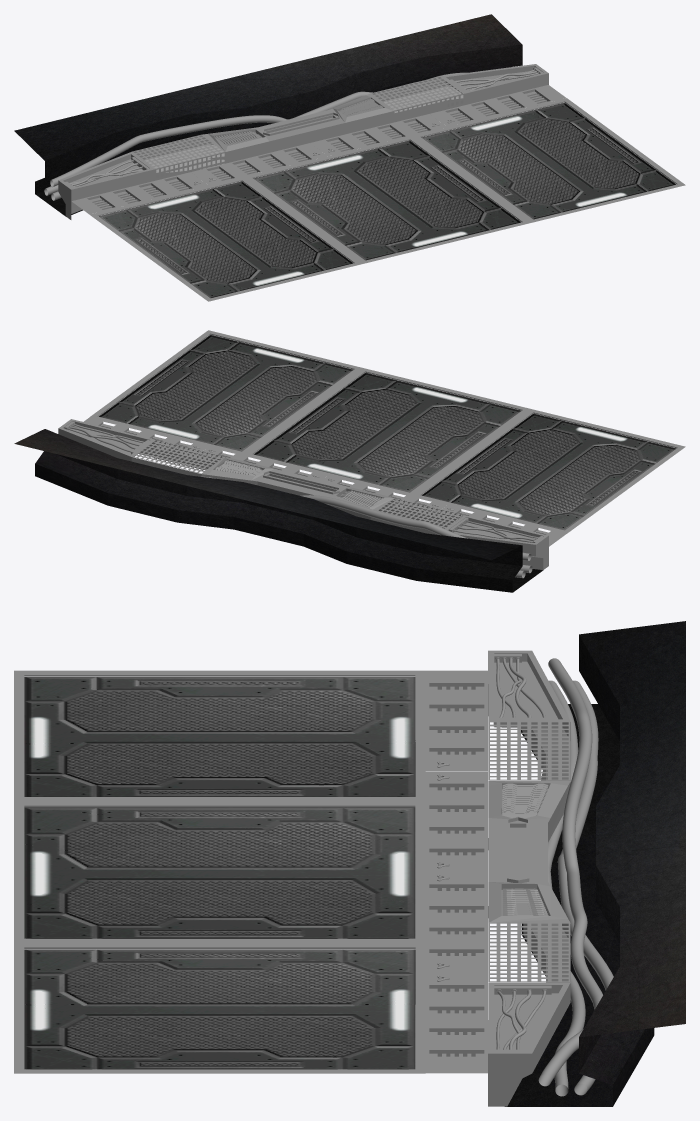
The model's file is floor_reset1.FBX.
3 views of the same model, one above another, from view 1: azimuth 30°, elevation 25°; view 2: azimuth 150°, elevation 25°; view 3: azimuth 270°, elevation 25° (orthographic). The views are drawn at different scales.
Visible parts, largest first — view 1: floor_1, floor_7, floor_6, floor_2, floor_3, floor_chul, floor_pipe1, floor_4, floor_pipe2, floor_prop2, floor_5; view 2: floor_1, floor_7, floor_2, floor_6, floor_chul, floor_3, floor_pipe1, floor_pipe2, floor_prop2, floor_4, floor_5; view 3: floor_1, floor_7, floor_2, floor_3, floor_6, floor_pipe1, floor_chul, floor_4, floor_prop2, floor_pipe2, floor_center_prop, floor_pipe_prop1.
Part boxes in pixels (left/top/right/bottom): floor_1: left=99, top=102, right=676, bottom=298; floor_7: left=14, top=14, right=522, bottom=216; floor_6: left=58, top=64, right=548, bottom=219; floor_2: left=89, top=98, right=685, bottom=301; floor_3: left=71, top=85, right=565, bottom=214; floor_chul: left=132, top=76, right=464, bottom=181; floor_pipe1: left=44, top=72, right=467, bottom=200; floor_4: left=89, top=91, right=547, bottom=209; floor_pipe2: left=69, top=70, right=538, bottom=186; floor_prop2: left=215, top=98, right=383, bottom=145; floor_5: left=263, top=112, right=339, bottom=135; floor_1: left=99, top=334, right=676, bottom=530; floor_7: left=14, top=429, right=543, bottom=592; floor_2: left=90, top=330, right=685, bottom=533; floor_6: left=58, top=419, right=548, bottom=569; floor_chul: left=132, top=439, right=464, bottom=528; floor_3: left=83, top=417, right=566, bottom=546; floor_pipe1: left=201, top=476, right=532, bottom=578; floor_pipe2: left=68, top=424, right=538, bottom=542; floor_prop2: left=215, top=460, right=382, bottom=507; floor_4: left=101, top=424, right=548, bottom=534; floor_5: left=263, top=471, right=339, bottom=494; floor_1: left=24, top=677, right=415, bottom=1069; floor_7: left=505, top=621, right=685, bottom=1106; floor_2: left=14, top=670, right=425, bottom=1073; floor_3: left=425, top=670, right=487, bottom=1073; floor_6: left=488, top=650, right=570, bottom=1106; floor_pipe1: left=538, top=658, right=613, bottom=1096; floor_chul: left=488, top=721, right=570, bottom=981; floor_4: left=429, top=686, right=484, bottom=1060; floor_prop2: left=502, top=783, right=548, bottom=915; floor_pipe2: left=496, top=658, right=546, bottom=1049; floor_center_prop: left=508, top=820, right=527, bottom=879; floor_pipe_prop1: left=493, top=654, right=551, bottom=1050.
Bounding box in the file's own units: 655 × 62.91 × 462.
Materials: 15 (2 with a texture image).
